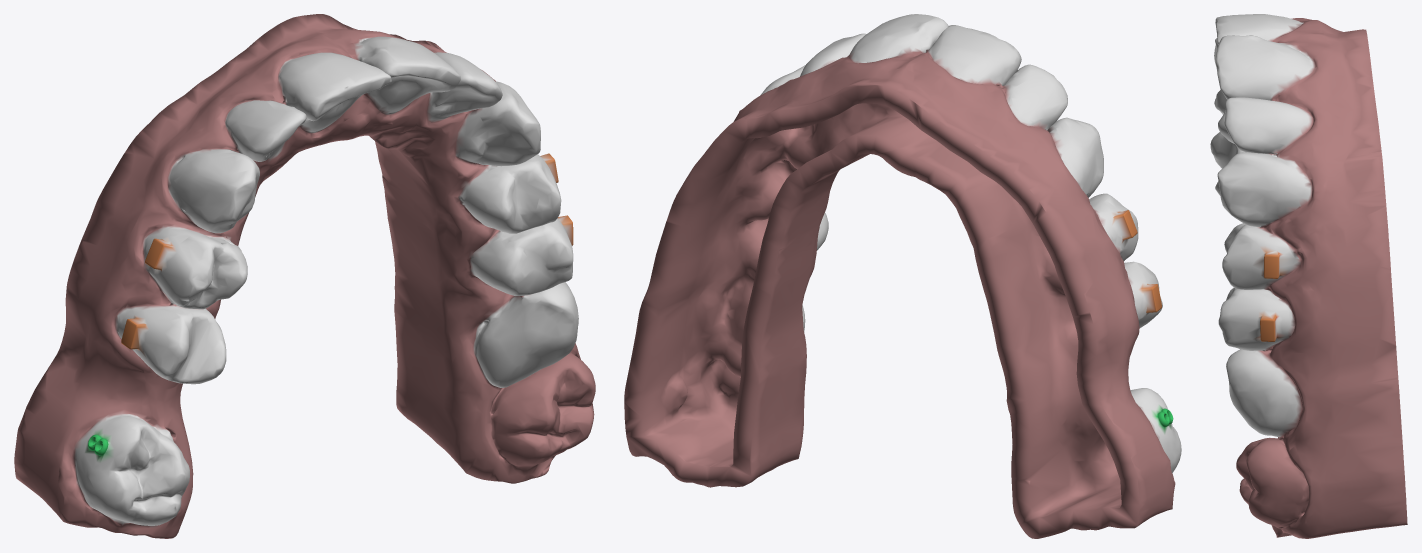
File: upper-model-8.glb
3 renders of one model, left to right at view 1: azimuth 30°, elevation 25°; view 2: azimuth 150°, elevation 25°; view 3: azimuth 270°, elevation 25°, orthographic. The views are drawn at different scales.
Parts seen in each view (by area): view 1: 8; view 2: 8; view 3: 8.
Part boxes in pixels (<box>): 8: <box>14,14,595,538</box>; 8: <box>624,14,1181,538</box>; 8: <box>1210,14,1407,538</box>.
Size of the model in its own units: 57.04 by 49.2 by 20.6.
